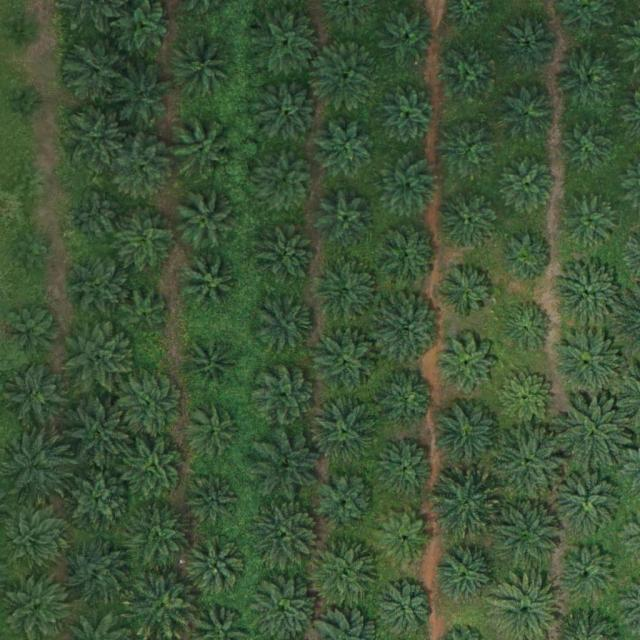Healthy: (254, 6, 325, 77), (311, 328, 382, 399), (434, 400, 505, 471), (429, 471, 500, 542), (313, 40, 383, 111), (65, 36, 135, 107), (64, 98, 135, 168), (65, 401, 135, 472), (63, 537, 133, 608), (128, 507, 198, 578), (252, 427, 322, 498), (252, 503, 323, 573), (311, 394, 381, 465), (374, 294, 444, 365), (496, 428, 566, 499), (494, 498, 564, 569), (552, 258, 623, 328), (553, 330, 623, 401), (555, 467, 625, 538), (554, 541, 624, 612), (375, 150, 445, 220), (254, 77, 324, 147), (65, 324, 135, 394), (309, 539, 379, 609), (433, 539, 503, 609), (559, 397, 629, 467), (557, 48, 620, 111), (497, 13, 560, 76), (497, 83, 560, 146), (315, 119, 378, 182), (255, 224, 318, 287), (112, 137, 175, 200), (69, 472, 132, 535), (185, 536, 248, 599), (314, 469, 377, 532), (435, 334, 498, 397), (438, 118, 500, 181), (439, 189, 501, 252), (376, 87, 438, 150), (255, 148, 318, 210), (175, 35, 237, 98), (177, 191, 240, 253), (114, 206, 176, 269), (70, 182, 132, 245), (4, 510, 67, 572), (70, 259, 132, 322), (125, 375, 187, 438), (124, 436, 186, 499), (181, 337, 243, 400), (254, 363, 316, 426), (316, 259, 378, 322), (375, 439, 437, 502), (175, 120, 237, 182), (259, 292, 321, 354), (375, 368, 437, 430), (381, 9, 436, 65), (559, 122, 614, 177), (563, 195, 618, 250), (442, 46, 497, 101), (318, 194, 373, 249), (116, 69, 171, 124), (5, 304, 60, 359), (189, 404, 244, 459), (187, 475, 242, 530), (378, 584, 433, 639), (440, 266, 495, 321), (499, 371, 554, 426), (501, 157, 555, 213), (381, 228, 435, 283), (378, 512, 432, 567), (500, 230, 554, 285)
Small: (501, 300, 556, 355), (190, 262, 237, 310), (124, 291, 171, 338), (14, 174, 45, 206), (20, 232, 51, 264), (10, 13, 41, 44), (12, 91, 43, 122)
